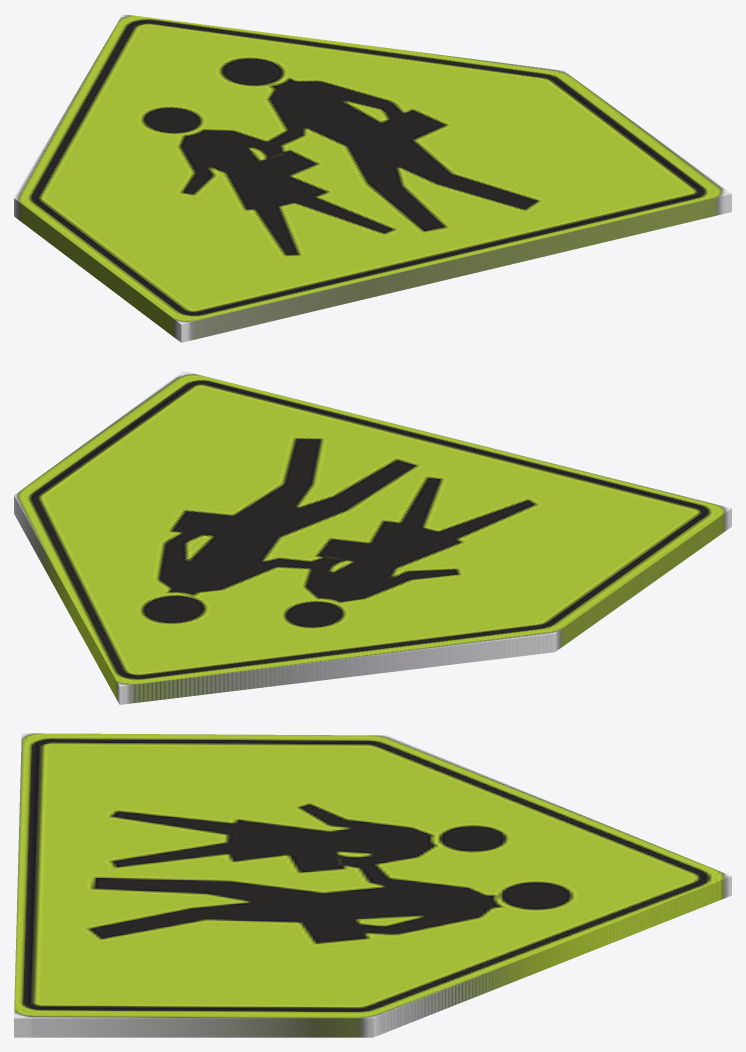
File: Penta board.fbx
3 renders of one model, top to bottom at view 1: azimuth 30°, elevation 25°; view 2: azimuth 150°, elevation 25°; view 3: azimuth 270°, elevation 25°, orthographic. The views are drawn at different scales.
Parts seen in each view (by area): view 1: Penta_board; view 2: Penta_board; view 3: Penta_board.
Boxes of the visible parts, x1,y1,x2,y2 form: Penta_board: [14, 14, 731, 342]; Penta_board: [14, 371, 731, 704]; Penta_board: [14, 733, 731, 1037].
Size of the model in its own units: 79.05 by 2.51 by 84.22.
1 material, 1 textured.
